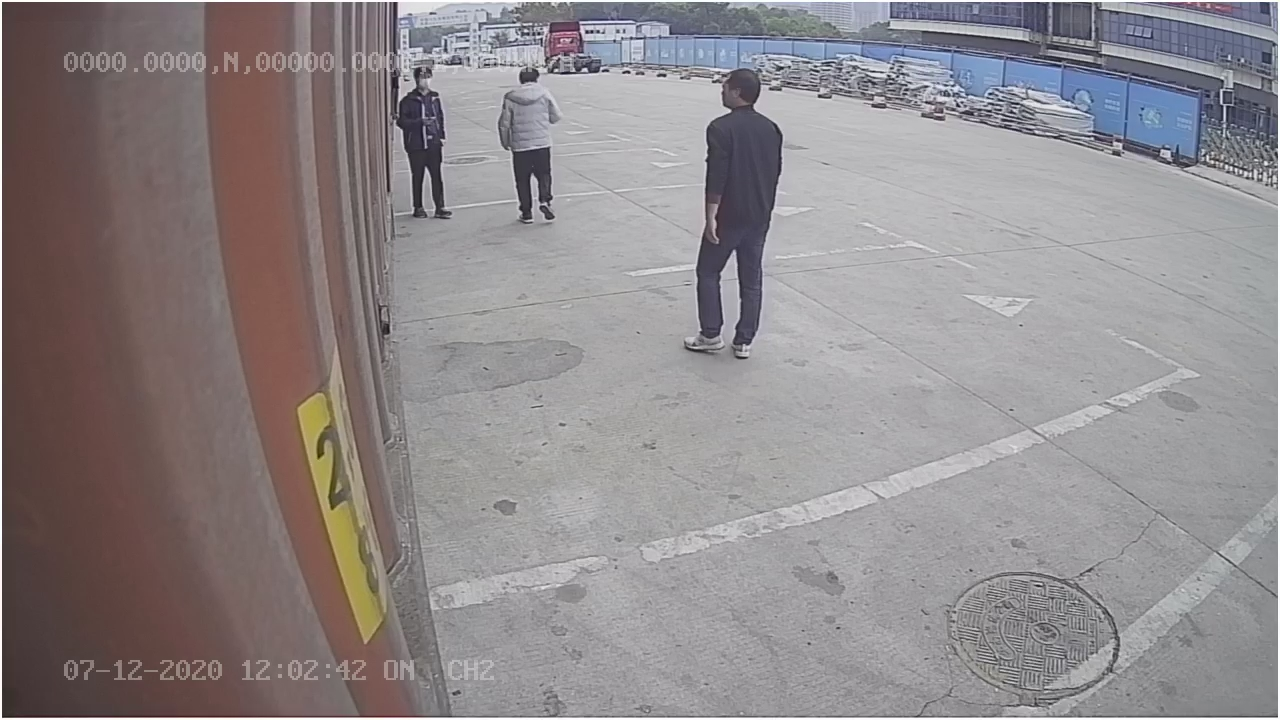person: (679, 61, 791, 362)
